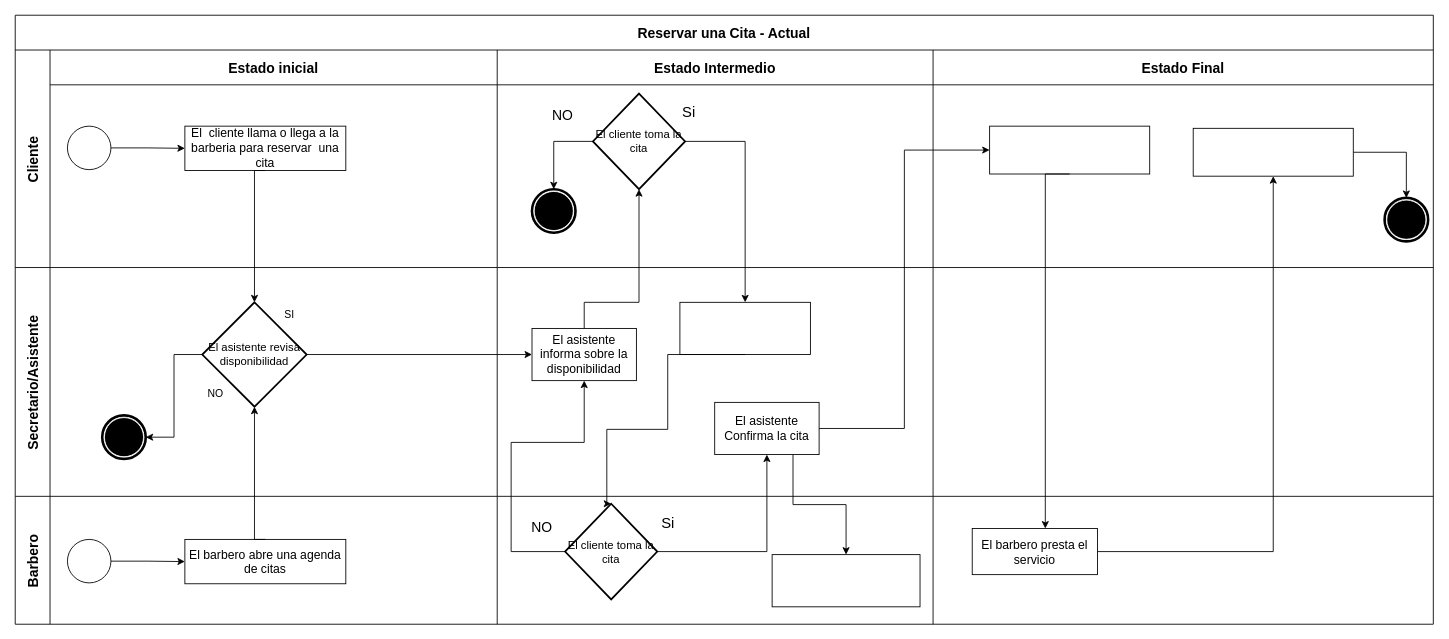
The diagram is 1449 pixels wide and 639 high, and some of its shapes have lost their labels. The shapes that lost their labels are listed below. From the top down, each one's centre as x and y in pixels, then its label:
(1069,149): El Cliente se dirige a la Barberia y recibe el servicio
(1272,151): El Cliente Paga por el servicio Adquirido
(744,328): El asistente Pregunta al barbero para aceptar el servicio
(845,580): La asistente le notifica al barbero
